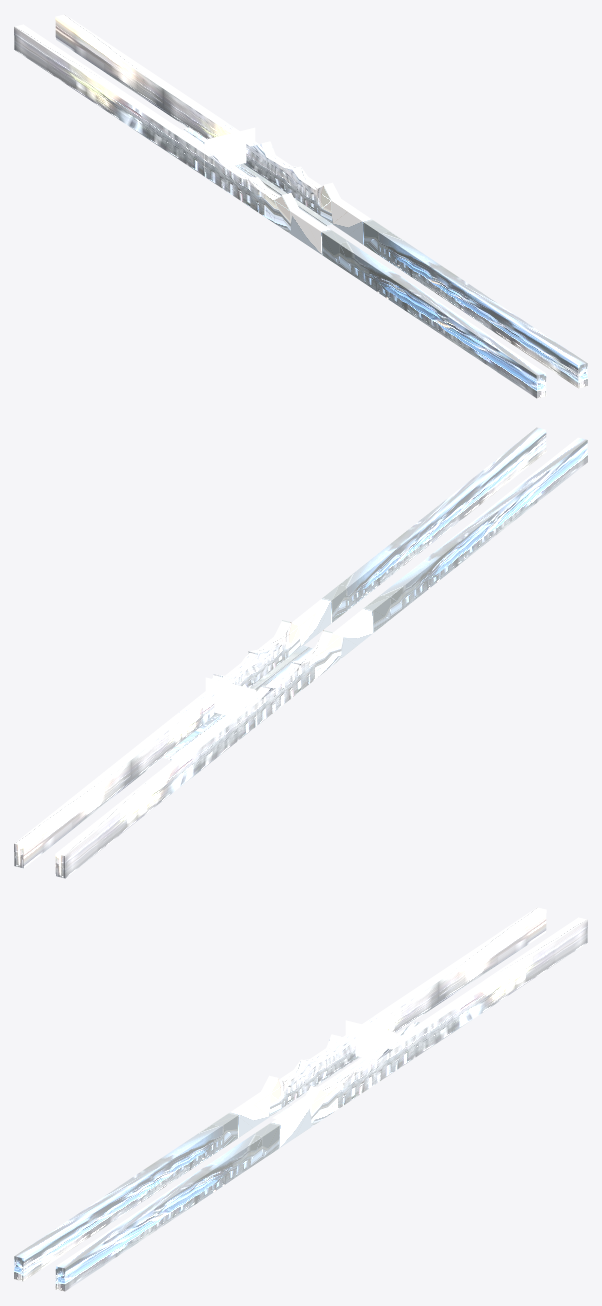
The model's file is aegir6013myndbandpaelinggata-transformed.glb.
3 renders of one model, top to bottom at view 1: azimuth 30°, elevation 25°; view 2: azimuth 150°, elevation 25°; view 3: azimuth 330°, elevation 25°, orthographic.
Parts seen in each view (by area): view 1: Cube, Cube.001, Screenshot 2020-12-15 at 10.38.00, Plane; view 2: Cube, Cube.001, Plane, Screenshot 2020-12-15 at 10.38.00; view 3: Cube.001, Cube, Screenshot 2020-12-15 at 10.38.00.
Part boxes in pixels (<box>): Cube: <box>14,24,546,398</box>; Cube.001: <box>55,14,587,388</box>; Screenshot 2020-12-15 at 10.38.00: <box>204,127,255,172</box>; Plane: <box>181,127,332,226</box>; Cube: <box>55,437,587,878</box>; Cube.001: <box>14,427,546,868</box>; Plane: <box>162,645,312,760</box>; Screenshot 2020-12-15 at 10.38.00: <box>205,677,256,722</box>; Cube.001: <box>55,917,587,1291</box>; Cube: <box>14,907,546,1281</box>; Screenshot 2020-12-15 at 10.38.00: <box>345,1020,396,1058</box>.
Size of the model in its own units: 12.05 by 11.4 by 191.
